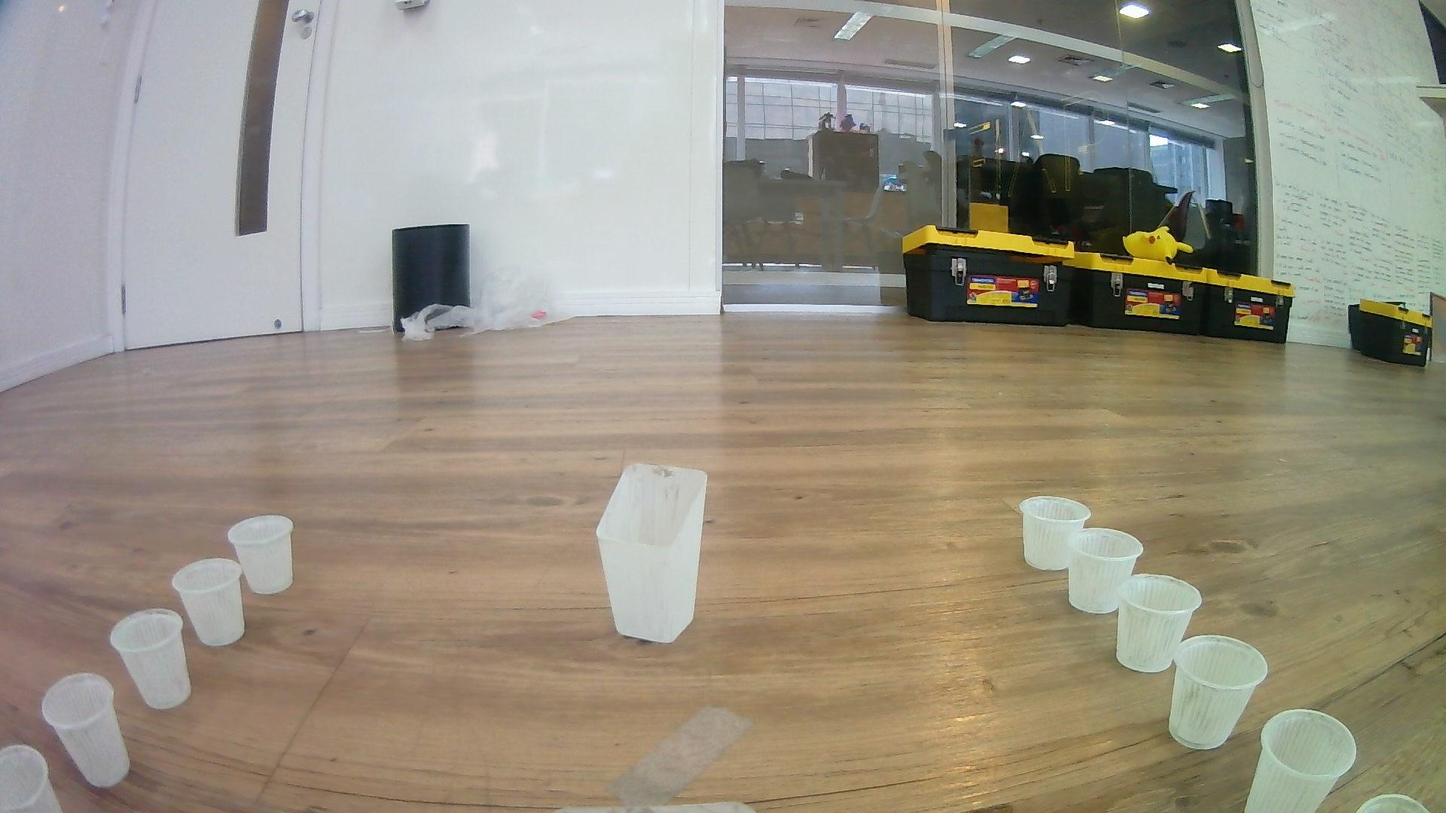erva_daninha: (596, 462, 709, 644)
planta: (1243, 708, 1358, 813), (1167, 635, 1269, 751), (41, 671, 130, 789), (1115, 573, 1203, 674), (109, 607, 191, 711), (1066, 527, 1144, 615), (170, 557, 245, 647), (1018, 495, 1092, 572), (226, 514, 294, 596), (0, 744, 63, 813), (1356, 793, 1431, 813)
